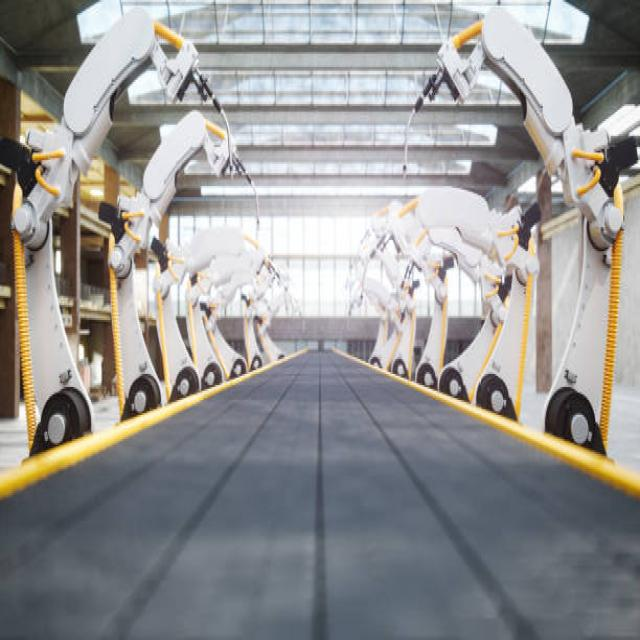Robotic-arm: (18, 3, 185, 466), (414, 0, 639, 247), (116, 112, 252, 421), (396, 166, 537, 424), (159, 216, 283, 387), (352, 205, 427, 374)
